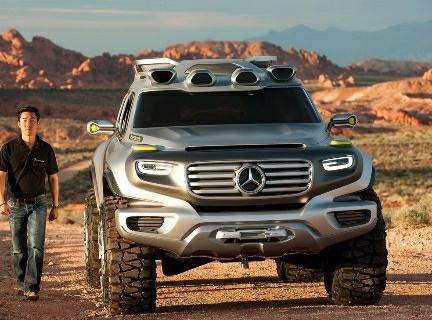car: (70, 57, 395, 315)
